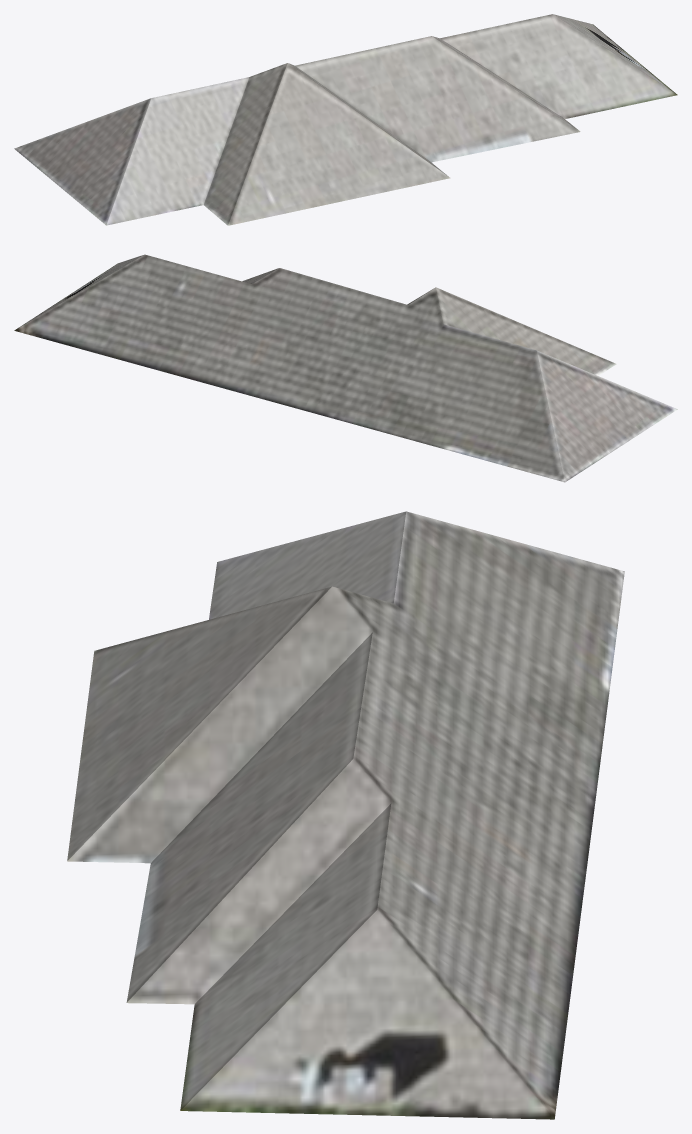
The model's file is CG10_500_039067_0054_roof.obj.
3 views of the same model, one above another, from view 1: azimuth 30°, elevation 25°; view 2: azimuth 150°, elevation 25°; view 3: azimuth 270°, elevation 25° (orthographic). The views are drawn at different scales.
Parts seen in each view (by area): view 1: CG10_500_039067_0054_roof; view 2: CG10_500_039067_0054_roof; view 3: CG10_500_039067_0054_roof.
Part boxes in pixels (x1=…): CG10_500_039067_0054_roof: x1=14, y1=14, x2=677, y2=225; CG10_500_039067_0054_roof: x1=14, y1=254, x2=677, y2=482; CG10_500_039067_0054_roof: x1=67, y1=511, x2=624, y2=1119.
Bounding box in the file's own units: 463 × 70 × 196.
Materials: 1 (1 with a texture image).
